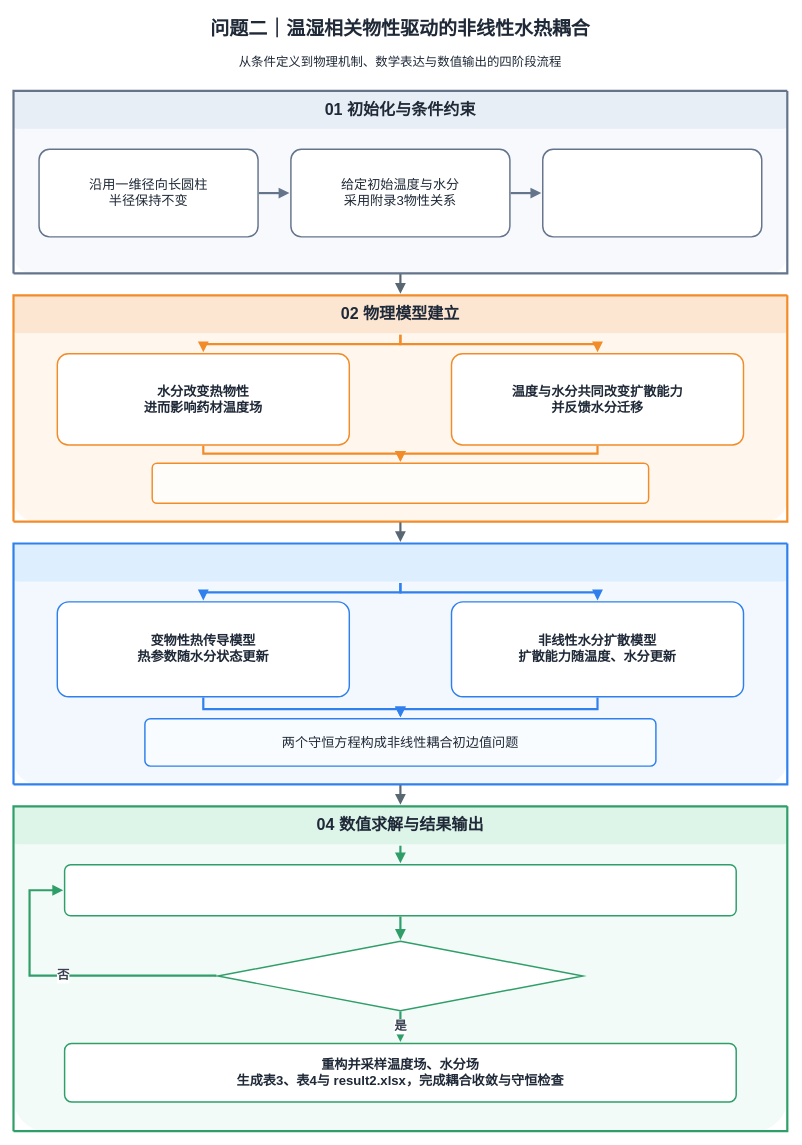
The diagram is 802 pixels wide and 1145 high, and some of its shapes have lost their labels. Here are the shapes that lost their labels. From the top down, the centre of each, then its label:
At (x=652, y=192): "由附件1构造 T0(t)、C0(t) 中心对称、表面对流".
At (x=400, y=483): "形成“水分 → 温度 → 扩散 → 水分”的双向物性耦合闭环".
At (x=400, y=562): "03 数学模型建立".
At (x=400, y=890): "表面加密有限体积离散 在每个时间步内进行 Picard—Thomas 耦合迭代".
At (x=400, y=975): "是否达到 3 h？".
